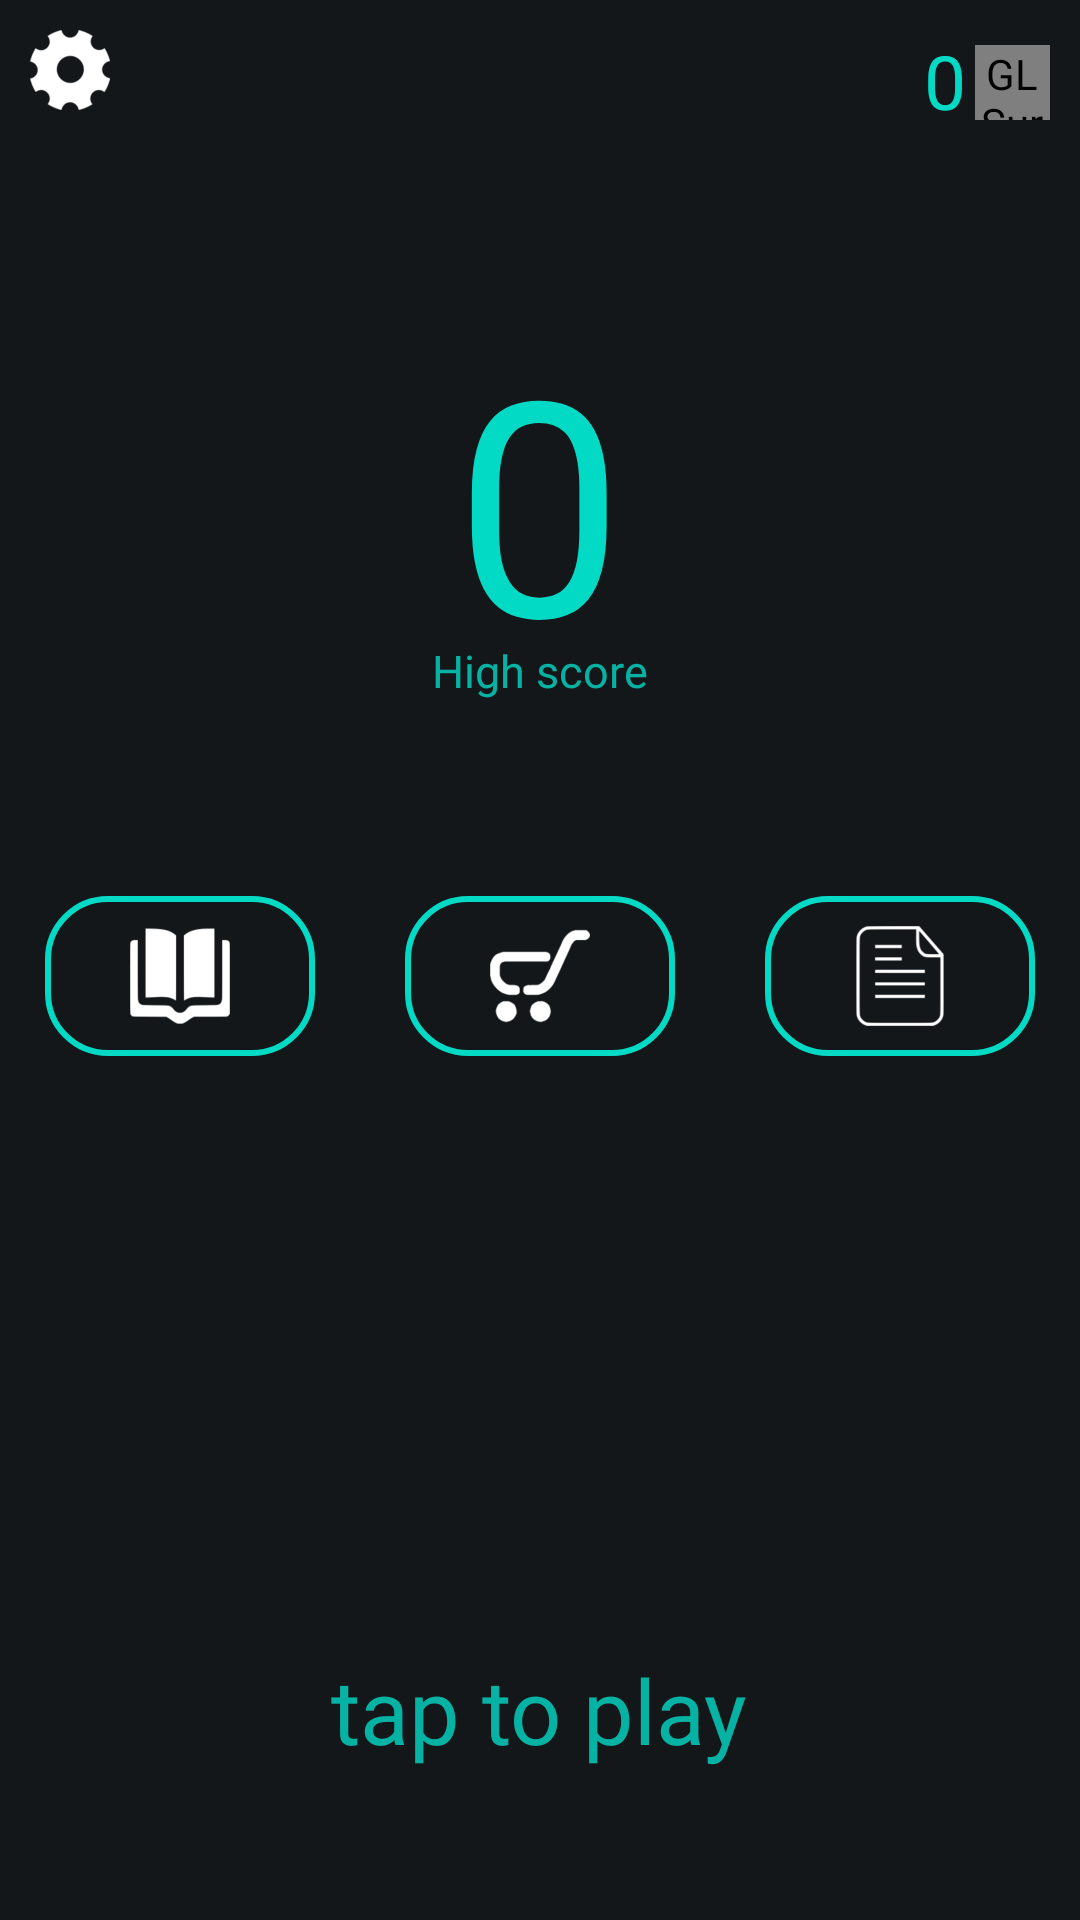

Icons on this 1080 x 1920 Android screen, each with the point to tap as [x,y]:
book: [180,976]
cart: [540,976]
gear: [70,70]
